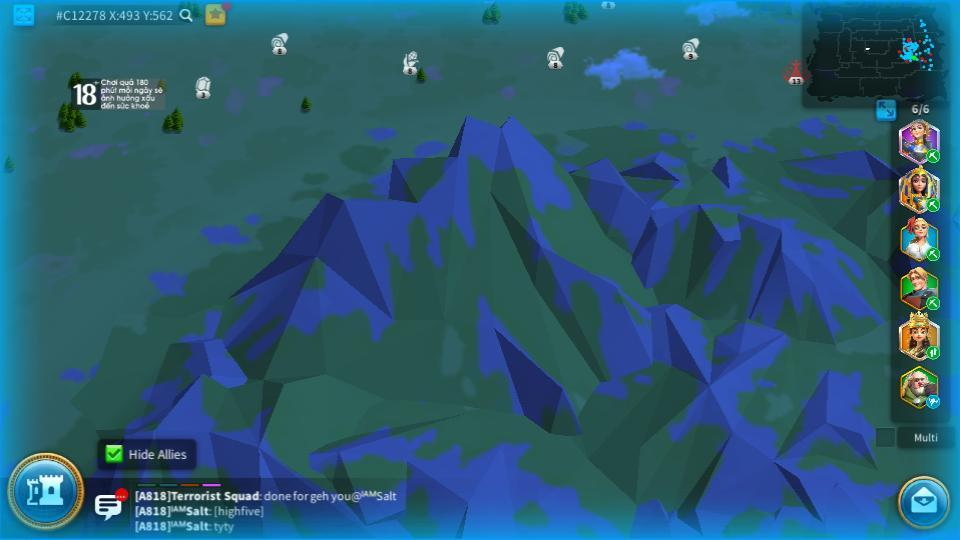gem-z-out: (193, 75, 212, 97)
march_idle: (925, 396, 942, 408)
march_marching: (924, 197, 939, 212), (924, 345, 939, 359), (925, 149, 941, 162)
